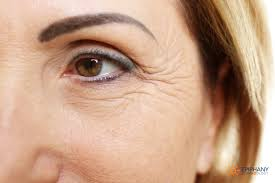Kerutan: (139, 42, 205, 108)
